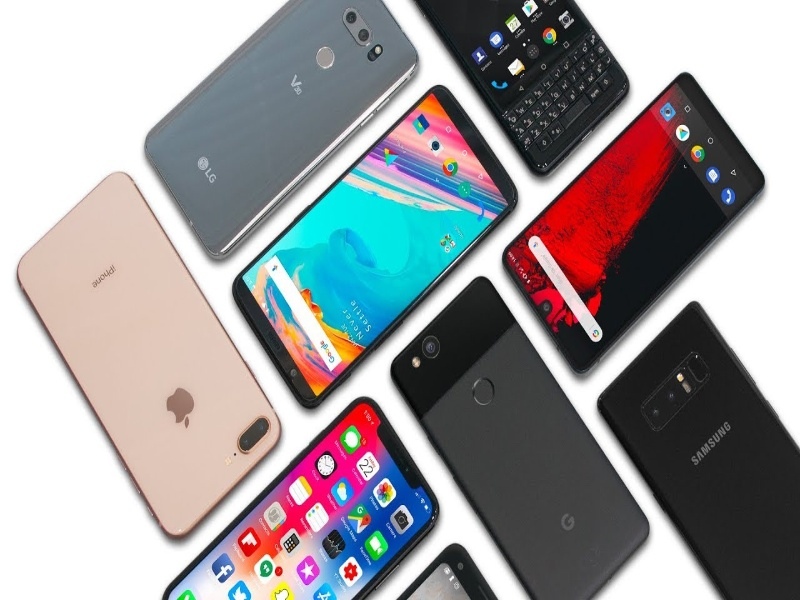cellphone: (23, 183, 284, 549), (537, 73, 767, 374), (164, 1, 413, 256), (607, 293, 795, 600)
